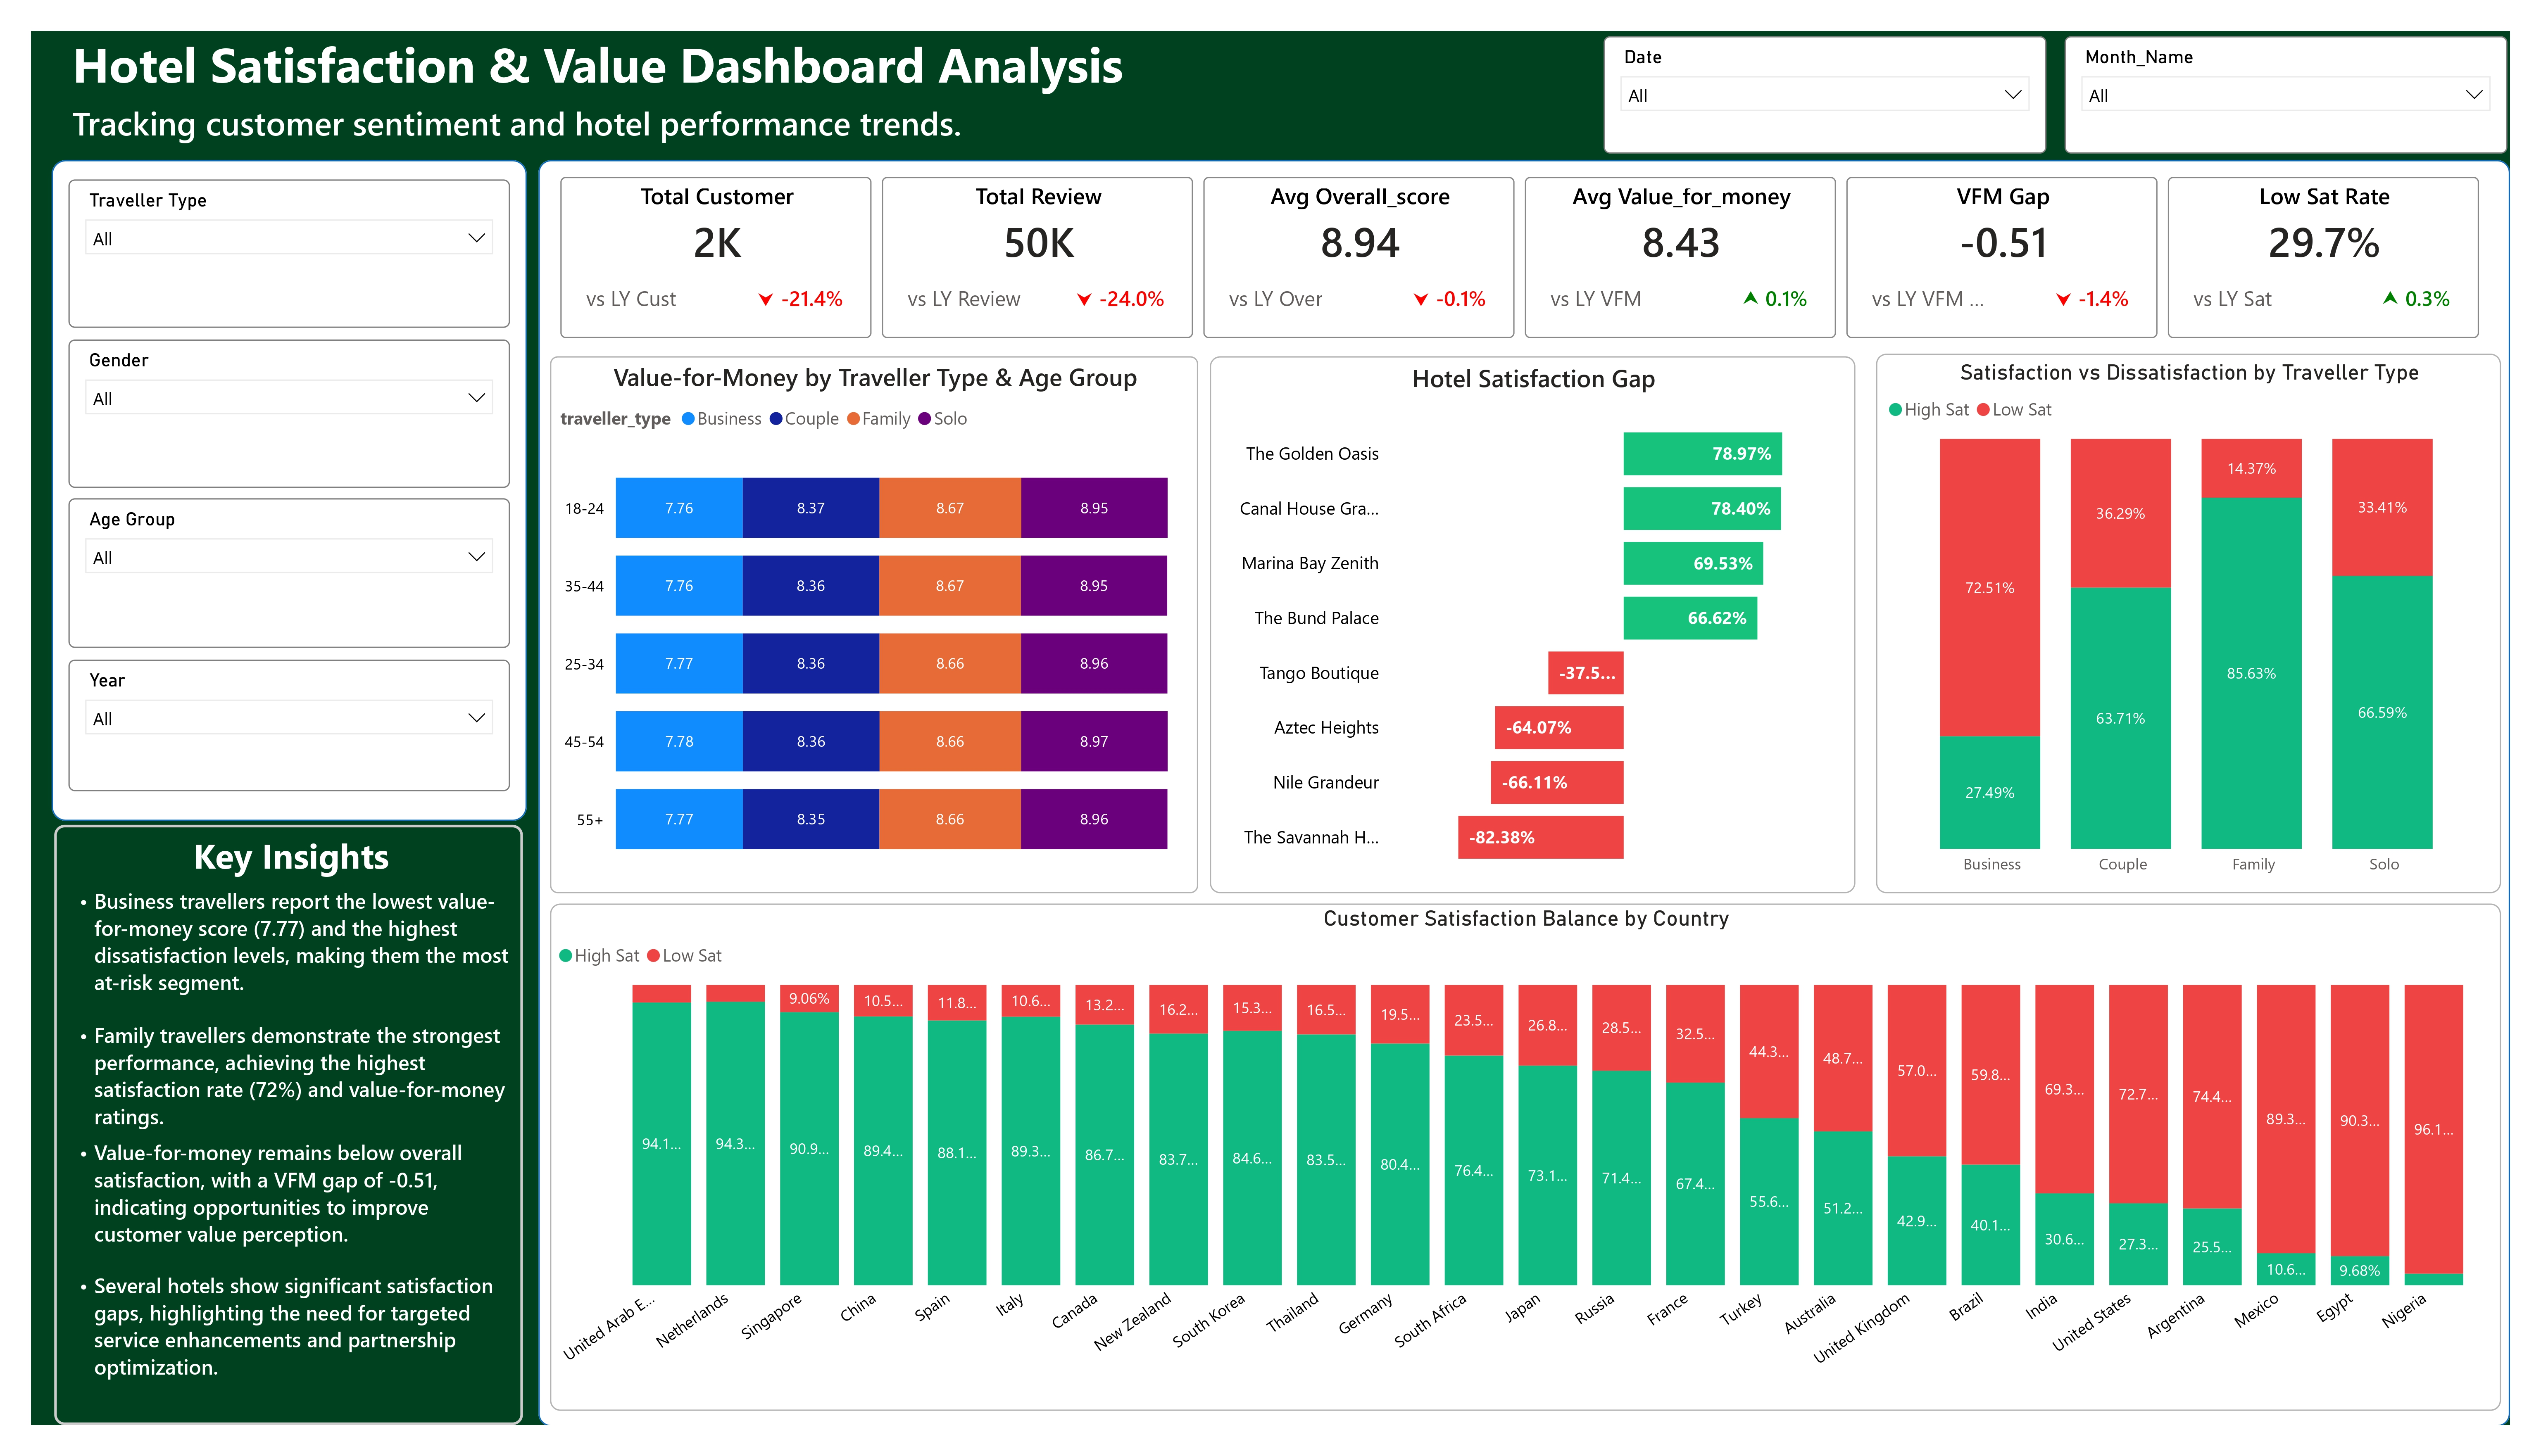

The page's visual inventory and layout, read from the dashboard file:
{"tool":"powerbi","page":{"name":"Executive Analysis","canvas":[1920,1080],"ordinal":0},"visuals":[{"type":"shape","box":[392.9,100.5,1527.1,980.1],"z":0},{"type":"shape","box":[16.4,100.2,367.5,512],"z":1000},{"type":"slicer","fields":{"Values":["users.traveller_type"]},"box":[28.8,114.7,342.7,115.6],"z":2000},{"type":"slicer","fields":{"Values":["users.user_gender"]},"box":[28.8,238.5,342.7,115.6],"z":3000},{"type":"slicer","title":"Age_Group","fields":{"Values":["users.age_group"]},"box":[28.8,362.4,342.7,115.6],"z":4000},{"type":"slicer","fields":{"Values":["Date.Year"]},"box":[29.5,487,341.7,102.1],"z":5000},{"type":"textbox","title":"Hotel Satisfaction & Value Dashboard Analysis","box":[26.8,0,835,89.3],"z":6000},{"type":"slicer","title":"Age_Group","fields":{"Values":["Date.Month_Name"]},"box":[1575.2,4.1,342.7,90.8],"z":7000},{"type":"slicer","title":"Age_Group","fields":{"Values":["Date.Date"]},"box":[1218.1,4.1,342.7,90.8],"z":8000},{"type":"shape","title":"Key Insights","box":[17.6,614.9,363.7,465.1],"z":9000},{"type":"textbox","box":[19.6,657.8,363.3,119.8],"z":10000},{"type":"textbox","box":[19.6,761.9,363.3,100.1],"z":11000},{"type":"textbox","box":[20.1,852.8,361.7,109.4],"z":12000},{"type":"textbox","box":[19.6,956.3,353.5,123.7],"z":13000},{"type":"cardVisual","fields":{"Data":["Measure.Total Customer","Measure.Total Review","Measure.Aov Overall_score","Measure.Avg Value_for_money","Measure.Gap VMF","Measure.Low Satisfaction Review %"]},"box":[392.9,96,1524.8,156.3],"z":14000},{"type":"hundredPercentStackedColumnChart","title":"Satisfaction vs Dissatisfaction by Traveller Type","fields":{"Category":["users.traveller_type"],"Y":["Measure.High Satisfaction Rate%","Measure.Low Satisfaction Review %"]},"box":[1428.8,250,484.5,417.5],"z":15000},{"type":"barChart","title":"Value-for-Money by Traveller Type & Age Group ","fields":{"Category":["users.age_group"],"Y":["Measure.Aov Value_for_money"],"Series":["users.traveller_type"]},"box":[401.9,252.3,502.3,415.3],"z":16000},{"type":"hundredPercentStackedColumnChart","title":"Customer Satisfaction Balance by Country","fields":{"Category":["hotels.country"],"Y":["Measure.High Satisfaction Rate%","Measure.Low Satisfaction Review %"]},"box":[401.9,676.5,1511.4,392.9],"z":17000},{"type":"barChart","title":"Hotel Satisfaction Gap","fields":{"Category":["hotels.hotel_name"],"Y":["Measure.Satisfaction Gap"]},"box":[913.1,252.3,500.1,415.3],"z":18000}]}

Visuals, with their boxes on the page's 1920x1080 design canvas (x1, y1, x2, y2). These are canvas units, not pixel positions in the 2541x1456 screenshot, which may show the page scaled, cropped or inside an application window:
shape: crop(393, 100, 1920, 1081)
shape: crop(16, 100, 384, 612)
slicer - users.traveller_type: crop(29, 115, 372, 230)
slicer - users.user_gender: crop(29, 238, 372, 354)
"Age_Group" slicer: crop(29, 362, 372, 478)
slicer - Date.Year: crop(30, 487, 371, 589)
"Hotel Satisfaction & Value Dashboard Analysis" textbox: crop(27, 0, 862, 89)
"Age_Group" slicer: crop(1575, 4, 1918, 95)
"Age_Group" slicer: crop(1218, 4, 1561, 95)
"Key Insights" shape: crop(18, 615, 381, 1080)
textbox: crop(20, 658, 383, 778)
textbox: crop(20, 762, 383, 862)
textbox: crop(20, 853, 382, 962)
textbox: crop(20, 956, 373, 1080)
cardVisual - Measure.Total Customer x Measure.Total Review: crop(393, 96, 1918, 252)
"Satisfaction vs Dissatisfaction by Traveller Type" hundredPercentStackedColumnChart: crop(1429, 250, 1913, 668)
"Value-for-Money by Traveller Type & Age Group " barChart: crop(402, 252, 904, 668)
"Customer Satisfaction Balance by Country" hundredPercentStackedColumnChart: crop(402, 676, 1913, 1069)
"Hotel Satisfaction Gap" barChart: crop(913, 252, 1413, 668)
